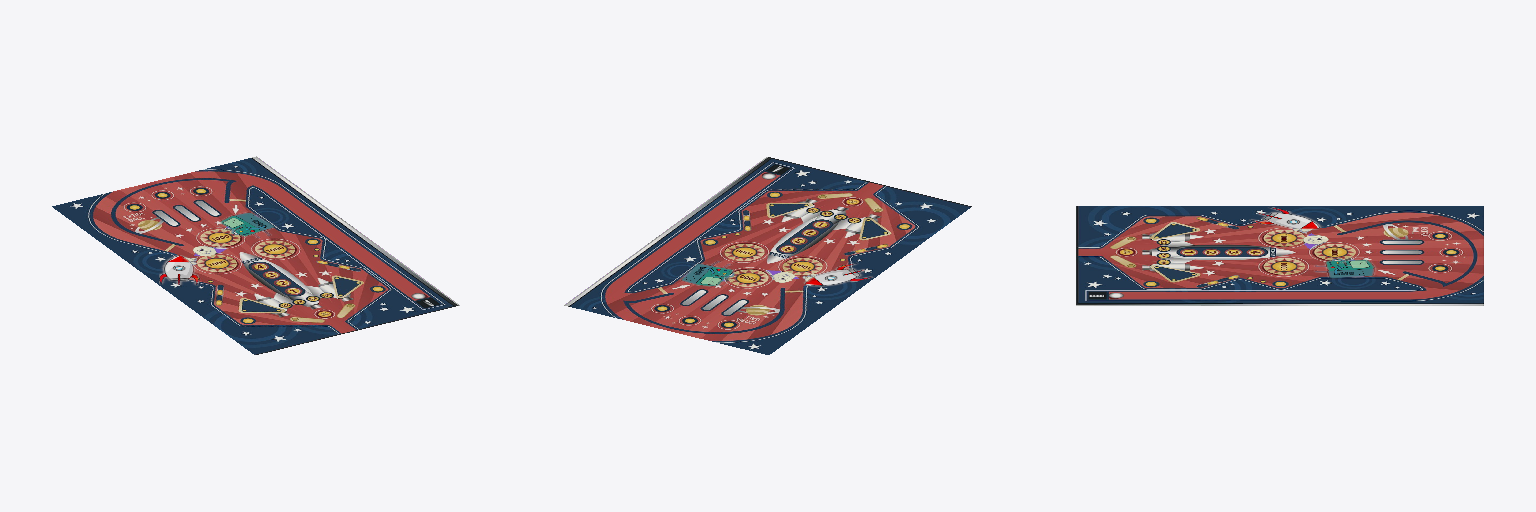
3 views of the same model, side by side, from view 1: azimuth 30°, elevation 25°; view 2: azimuth 150°, elevation 25°; view 3: azimuth 270°, elevation 25° (orthographic).
Visible parts, largest first — view 1: base_tablero; view 2: base_tablero; view 3: base_tablero.
Part boxes in pixels (bbox=[...]): base_tablero: bbox=[52, 156, 459, 354]; base_tablero: bbox=[564, 157, 971, 354]; base_tablero: bbox=[1076, 206, 1483, 305].
Bounding box in the file's own units: 11.39 × 0.0123 × 19.54.
Materials: 1 (1 with a texture image).